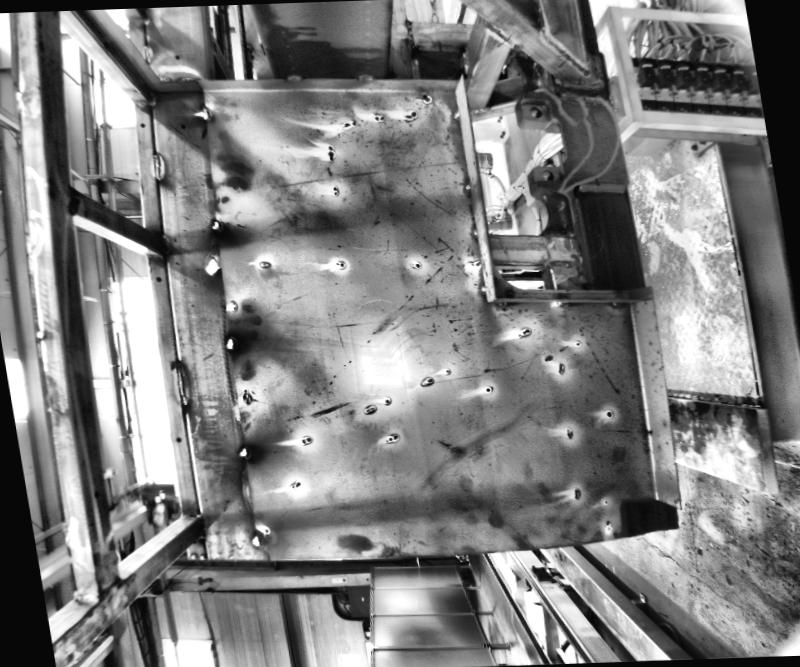hole: (540, 168, 554, 182), (526, 106, 542, 118), (154, 274, 162, 281), (178, 123, 184, 128), (173, 54, 179, 59), (174, 435, 180, 440), (140, 122, 144, 126)
welding: (541, 32, 584, 71), (485, 19, 512, 45), (175, 362, 188, 409), (236, 439, 255, 461), (207, 216, 225, 235), (148, 149, 160, 177), (140, 41, 154, 65), (200, 105, 213, 122), (353, 70, 372, 81), (222, 335, 236, 349), (248, 531, 262, 544), (450, 106, 463, 119), (552, 299, 572, 305), (286, 74, 298, 81), (463, 180, 471, 190), (479, 282, 486, 293), (496, 300, 506, 305), (611, 302, 623, 306), (472, 227, 476, 235)
